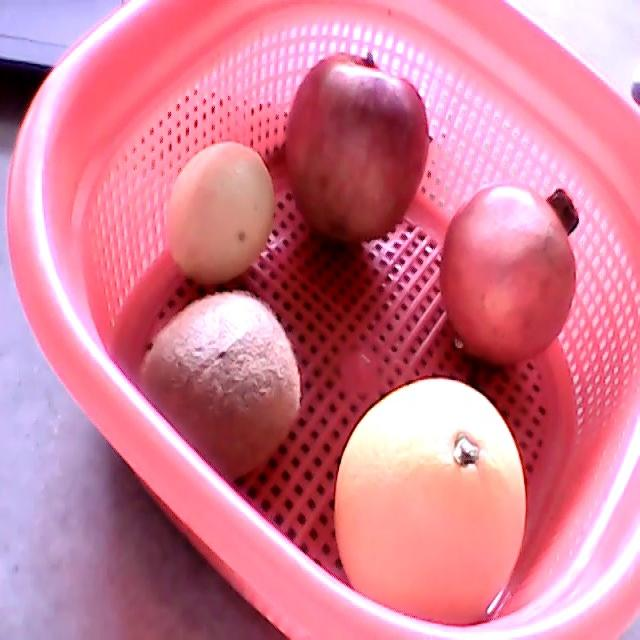apple: (286, 51, 429, 242)
kiwi: (136, 291, 301, 481)
lemon: (166, 142, 275, 284)
orange: (334, 377, 526, 627)
pomegranate: (438, 183, 580, 365)
